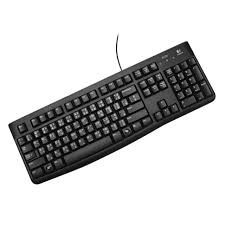keyboard: (6, 43, 218, 187)
